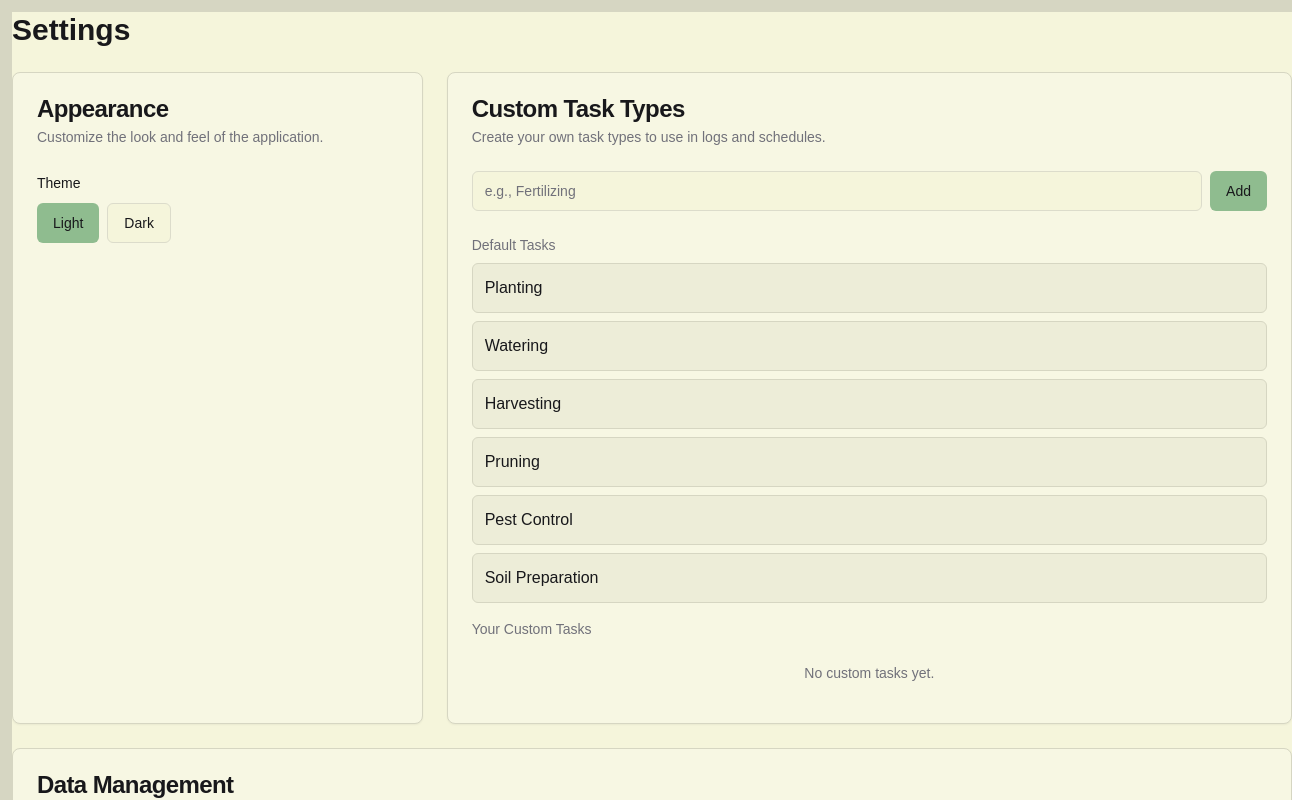
Scenario: SettingsPage › shows an error message for invalid input
This screenshot has width=1292, height=800.
# Input is too short
Type "A" into the field with placeholder "e.g., Fertilizing".
click(837, 191); type("A")  # box [472, 171, 1202, 211]
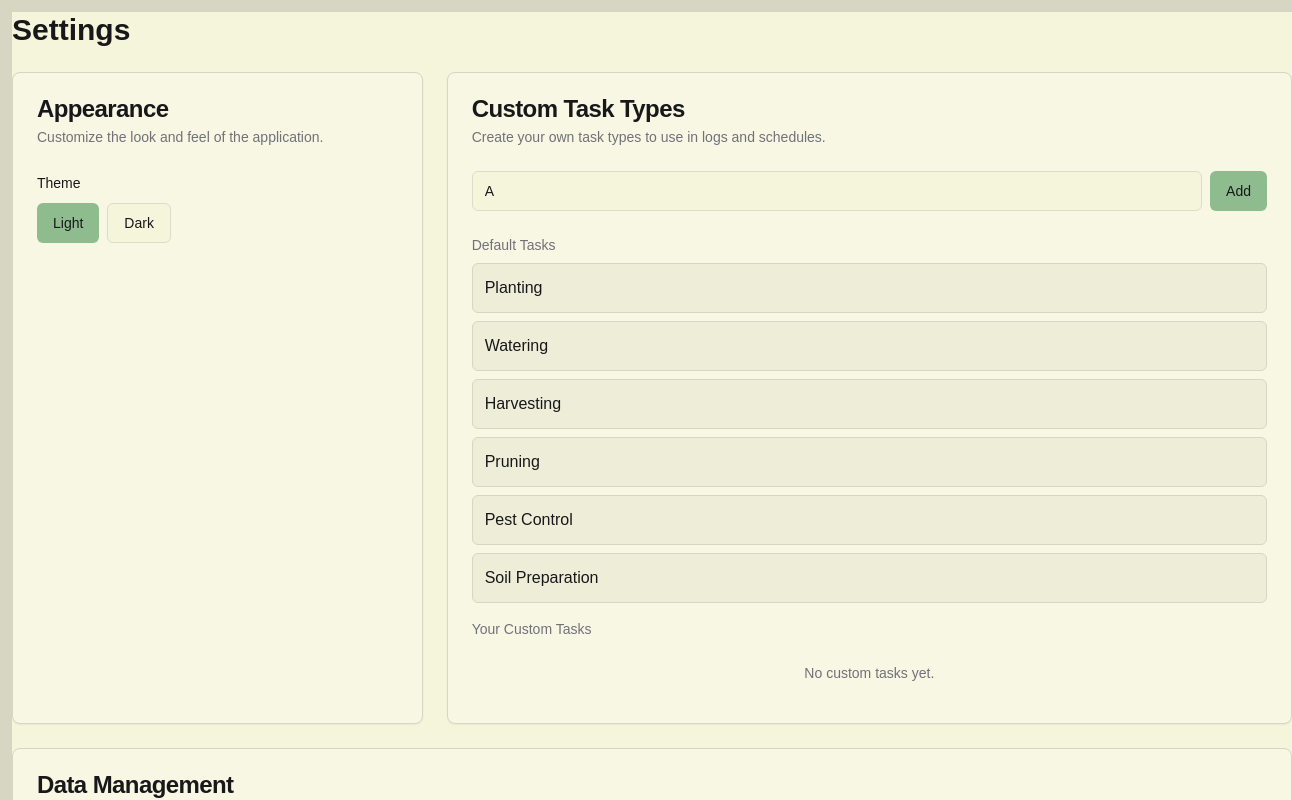
Click the button "Add".
click(1239, 191)  # box [1210, 171, 1267, 211]
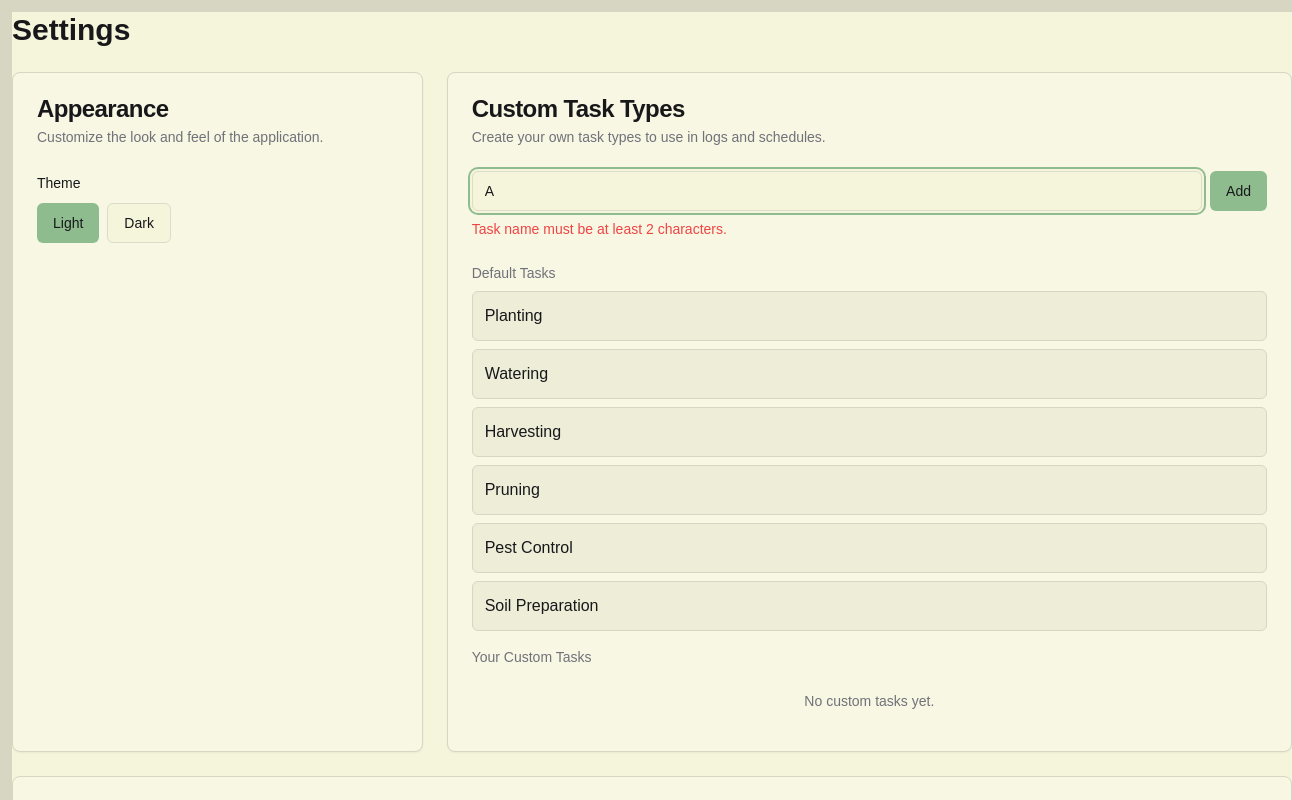
Now the text "Task name must be at least 2 characters." is shown, box [472, 221, 727, 237]
